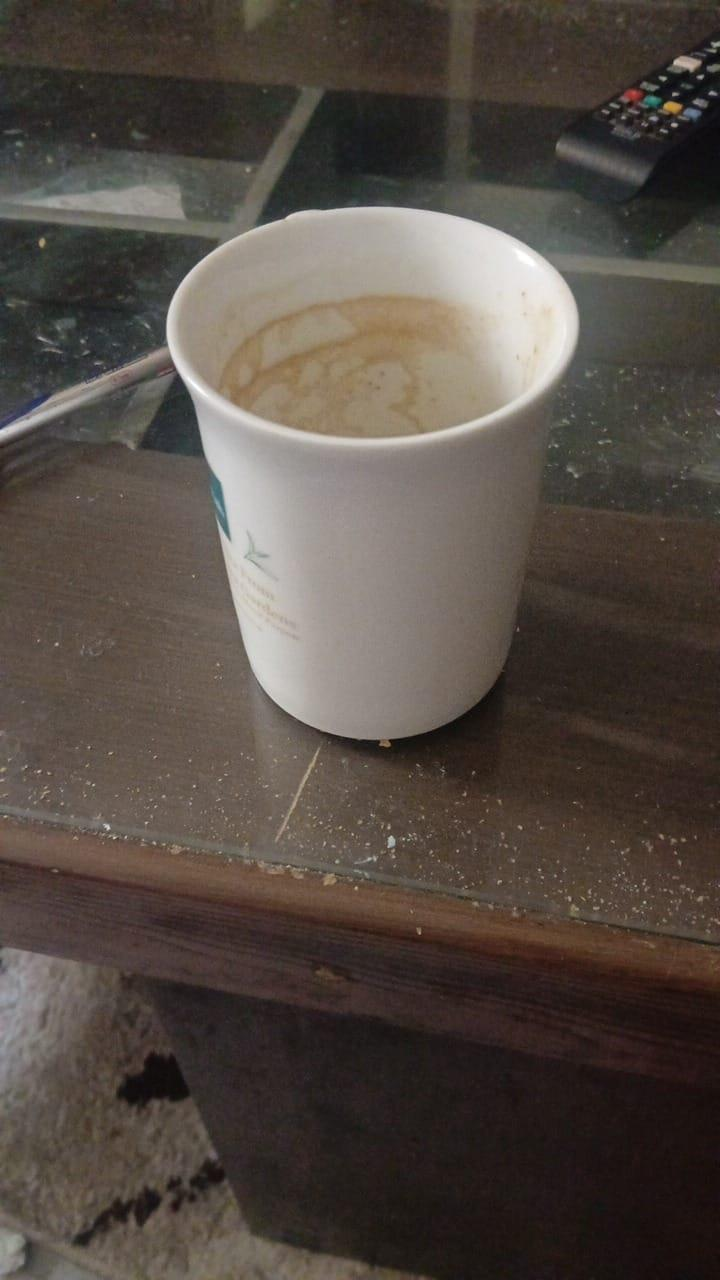cup: (167, 207, 578, 740), (166, 201, 579, 452)
